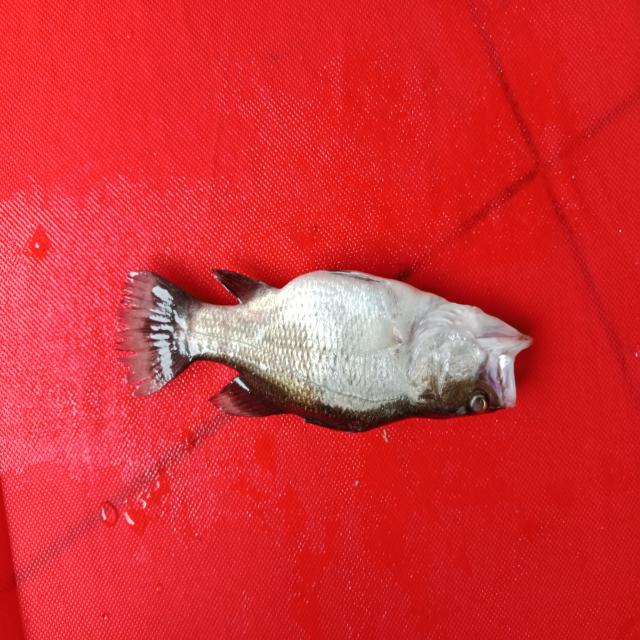ikan: (102, 227, 543, 441)
